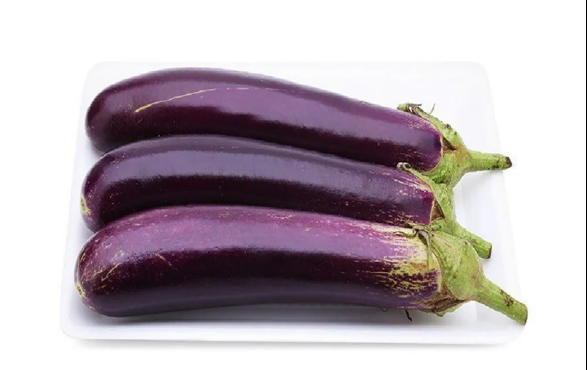catim: (79, 45, 508, 185), (42, 209, 533, 329), (68, 150, 478, 222)
